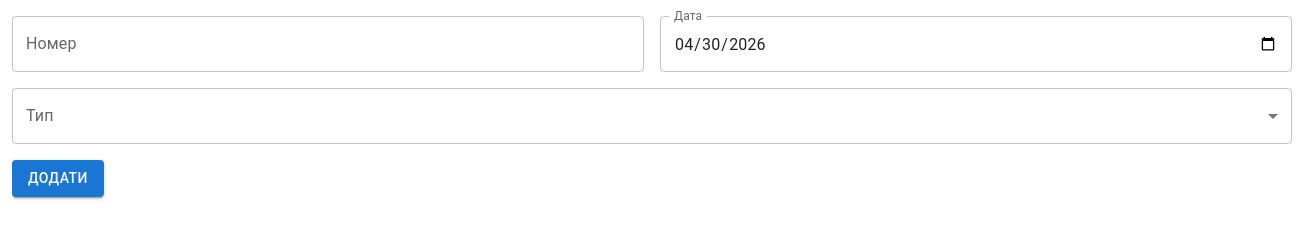
it: OrderForm › shows validation errors on submit with invalid data
Click the button "Додати" at (58,178), box [12,160,104,196]
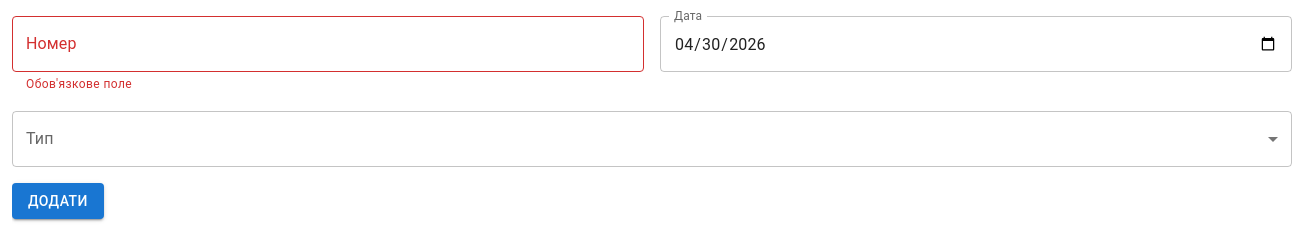
Now the text "Обов'язкове поле" is shown, box [26,77,132,91]
